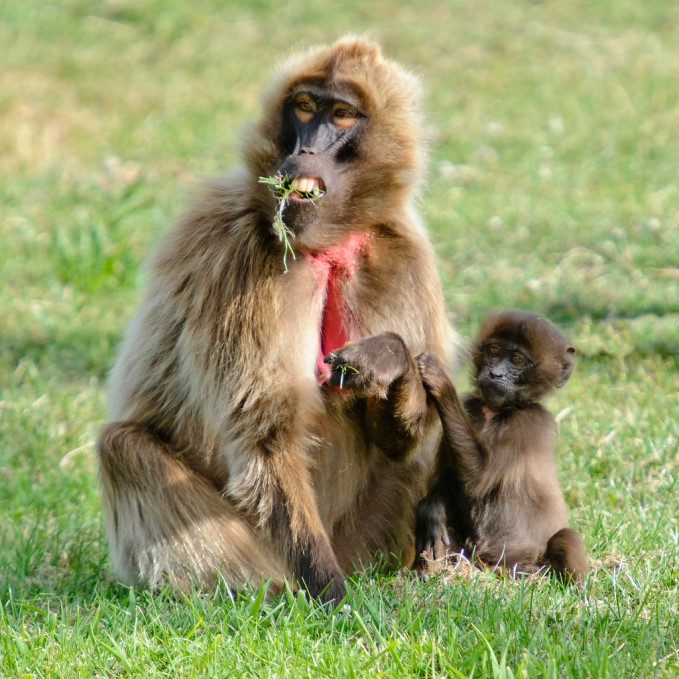Gelada: (125, 37, 451, 569), (467, 312, 589, 579)
